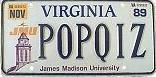placa de veiculo: (3, 0, 156, 76)
